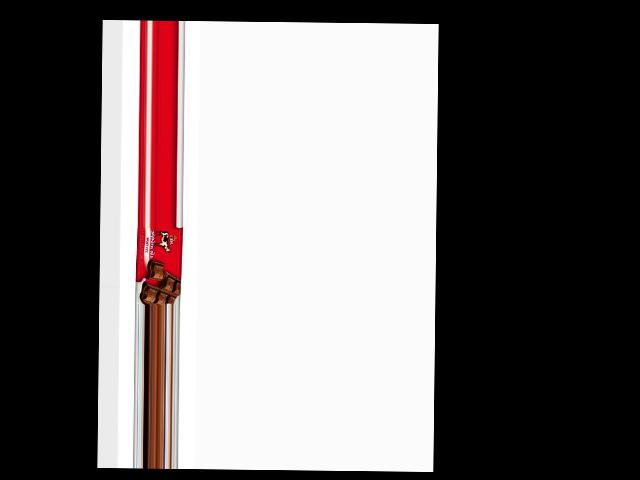chocolate: (134, 225, 181, 304)
